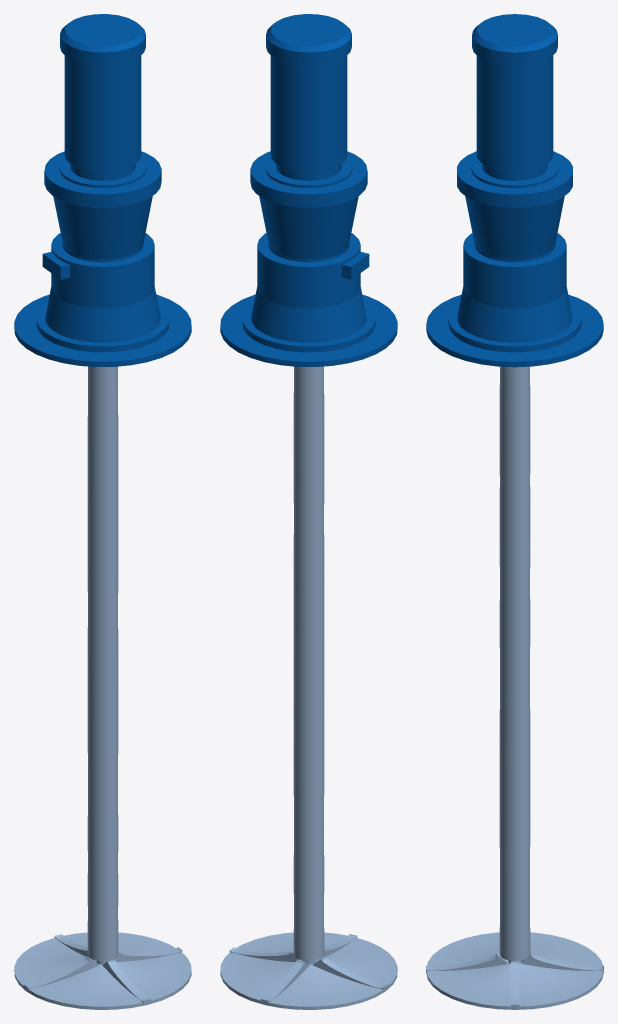
The model's file is rapid-mixer.gltf.
The picture shows the model from 3 angles, left to right: view 1: azimuth 30°, elevation 25°; view 2: azimuth 150°, elevation 25°; view 3: azimuth 270°, elevation 25°; orthographic projection.
Parts seen in each view (by area): view 1: 拉伸 [215137], 拉伸 [215223], 拉伸 [215177], 融合 [215189], 拉伸 [215150], 融合 [215162], 拉伸 [215204], 连接的实心几何图形 [215413], 旋转 [215431], 融合 [215239], 旋转 [215423], 拉伸 [215156] (+7 smaller); view 2: 拉伸 [215137], 拉伸 [215223], 拉伸 [215177], 融合 [215189], 拉伸 [215150], 融合 [215162], 连接的实心几何图形 [215413], 拉伸 [215204], 融合 [215239], 旋转 [215415], 旋转 [215431], 拉伸 [215156] (+6 smaller); view 3: 拉伸 [215137], 拉伸 [215223], 拉伸 [215177], 融合 [215189], 拉伸 [215150], 融合 [215162], 拉伸 [215204], 旋转 [215415], 旋转 [215423], 融合 [215239], 连接的实心几何图形 [215413], 拉伸 [215156] (+6 smaller).
Part boxes in pixels (x1,y1,x2,y2): 拉伸 [215137]: [87, 366, 118, 960]; 拉伸 [215223]: [64, 55, 141, 171]; 拉伸 [215177]: [51, 233, 154, 305]; 融合 [215189]: [53, 196, 152, 259]; 拉伸 [215150]: [14, 294, 191, 366]; 融合 [215162]: [45, 287, 160, 342]; 拉伸 [215204]: [44, 151, 161, 207]; 连接的实心几何图形 [215413]: [14, 934, 99, 991]; 旋转 [215431]: [28, 964, 143, 1008]; 融合 [215239]: [60, 14, 145, 52]; 旋转 [215423]: [116, 952, 191, 1002]; 拉伸 [215156]: [36, 302, 169, 352]; 拉伸 [215137]: [293, 366, 324, 960]; 拉伸 [215223]: [270, 55, 347, 171]; 拉伸 [215177]: [257, 233, 360, 305]; 融合 [215189]: [259, 196, 358, 259]; 拉伸 [215150]: [220, 294, 397, 366]; 融合 [215162]: [251, 287, 366, 342]; 连接的实心几何图形 [215413]: [260, 956, 388, 1008]; 拉伸 [215204]: [250, 151, 367, 207]; 融合 [215239]: [266, 14, 351, 52]; 旋转 [215415]: [220, 952, 295, 1002]; 旋转 [215431]: [315, 938, 397, 987]; 拉伸 [215156]: [242, 302, 375, 352]; 拉伸 [215137]: [499, 366, 530, 960]; 拉伸 [215223]: [476, 55, 553, 171]; 拉伸 [215177]: [463, 233, 566, 305]; 融合 [215189]: [465, 196, 564, 259]; 拉伸 [215150]: [426, 294, 603, 367]; 融合 [215162]: [457, 287, 572, 342]; 拉伸 [215204]: [457, 151, 572, 207]; 旋转 [215415]: [519, 962, 603, 1008]; 旋转 [215423]: [426, 962, 510, 1008]; 融合 [215239]: [472, 14, 557, 52]; 连接的实心几何图形 [215413]: [521, 932, 603, 972]; 拉伸 [215156]: [448, 303, 581, 352].
Size of the model in its own units: 0.6002 by 3.54 by 0.6002.
